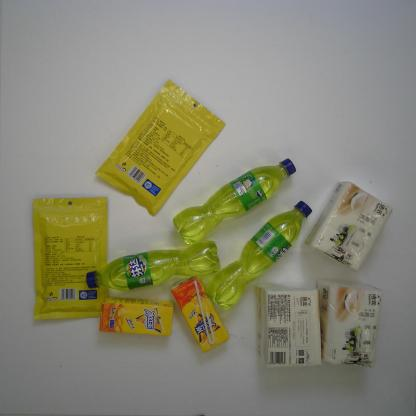Dried Fruit: (95, 77, 226, 218), (31, 196, 109, 321)
Drink: (204, 200, 313, 311), (172, 157, 297, 246), (86, 239, 221, 292), (170, 275, 231, 353), (98, 296, 175, 336)
Tissue: (303, 180, 394, 272), (316, 278, 383, 369), (254, 282, 323, 370)
